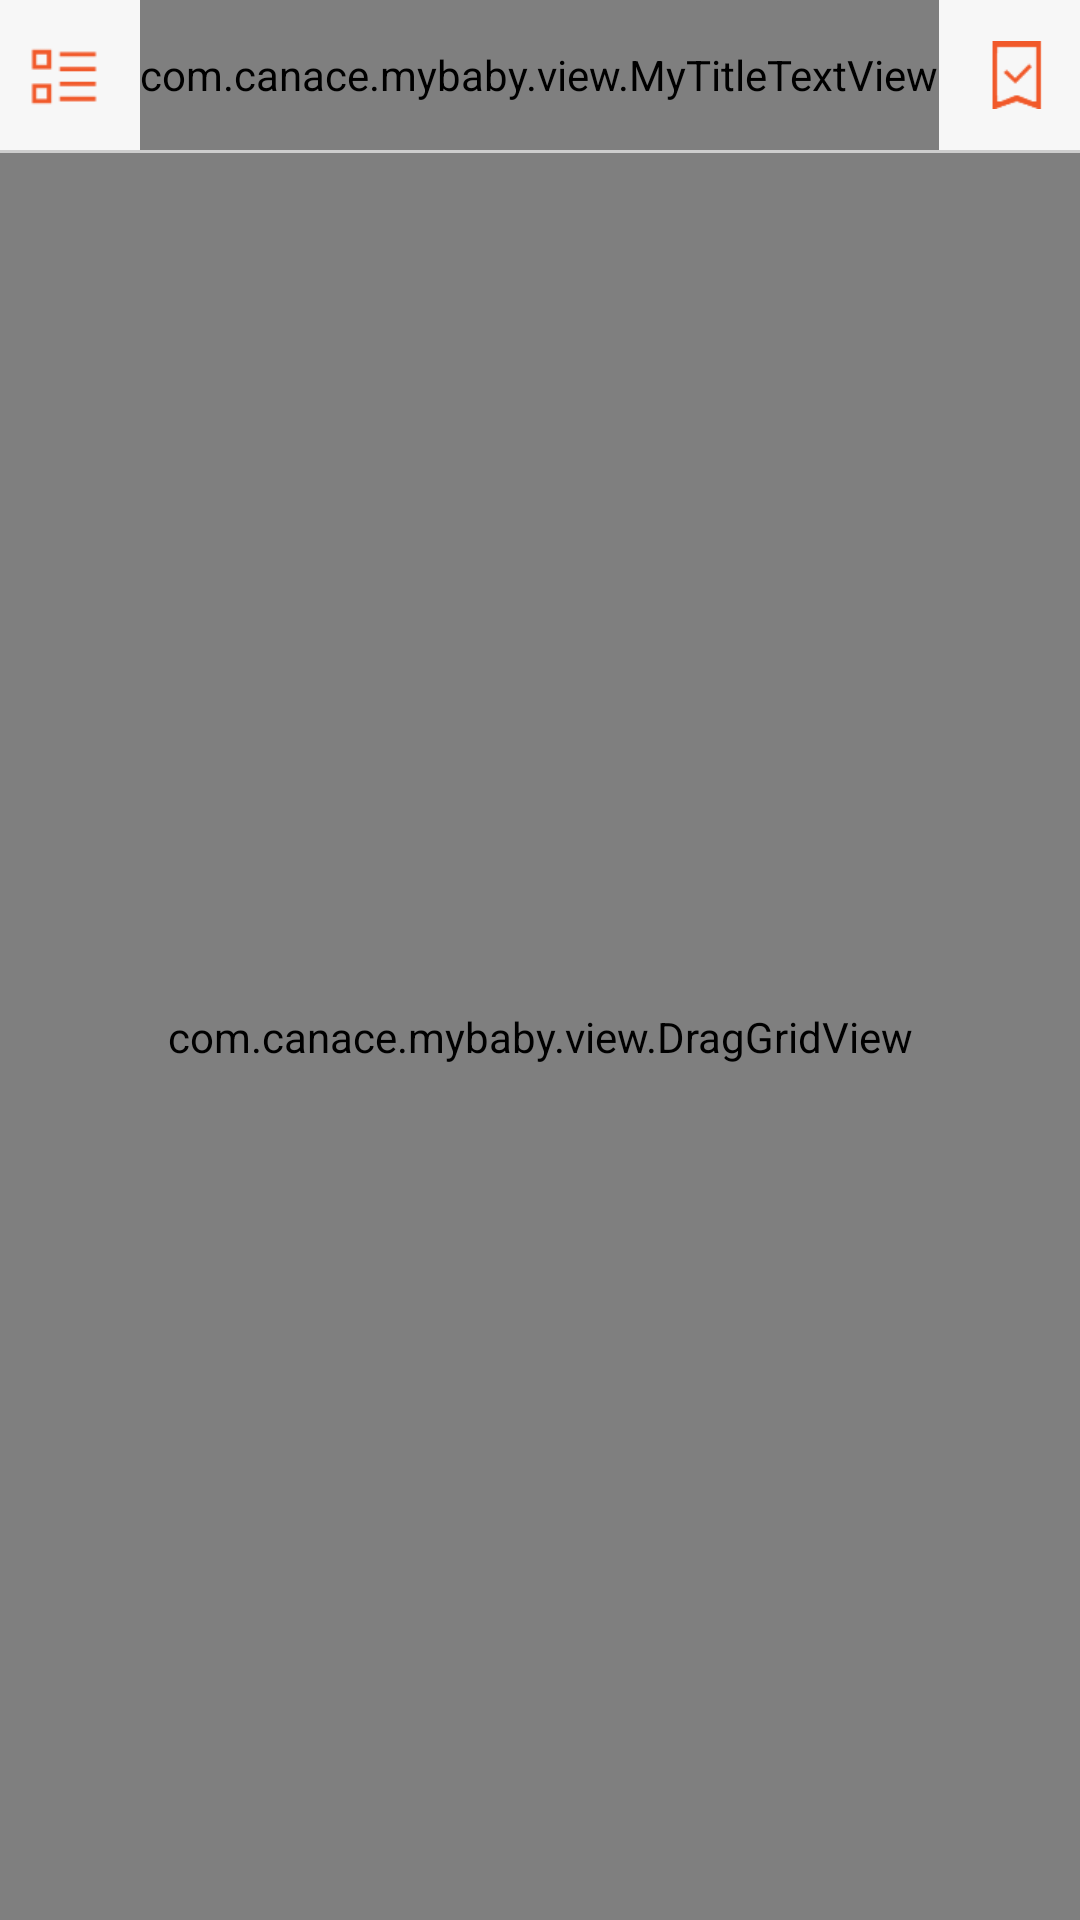

Point at icon controls on the screen. Image size 1080px×1920px, points as [x,y].
menubutton: [64,76]
